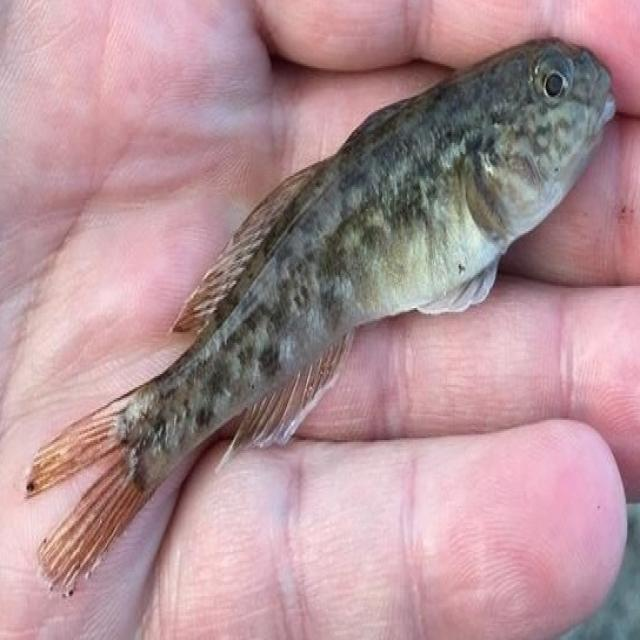Goby: (14, 18, 640, 640)
